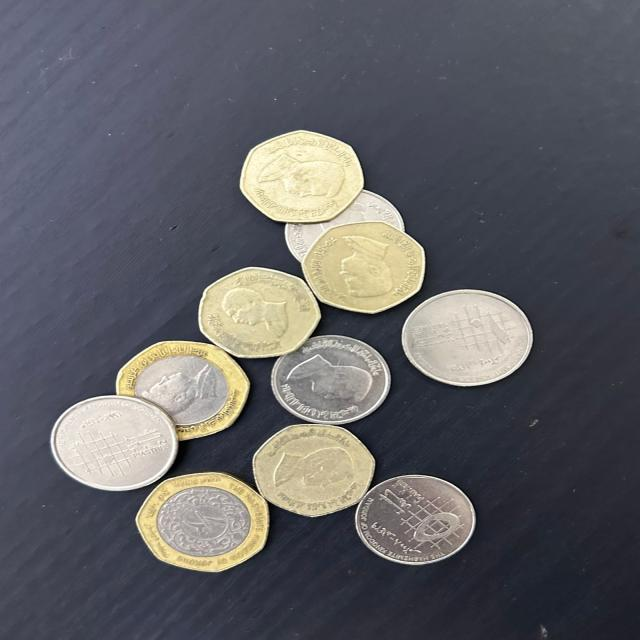10-coins: (399, 288, 532, 386), (51, 395, 178, 492)
25-coins: (251, 423, 377, 519), (237, 129, 367, 222), (300, 221, 427, 314), (196, 264, 321, 358)
5-coins: (352, 474, 478, 565), (267, 334, 389, 424), (284, 190, 408, 263)
50-coins: (115, 339, 250, 441), (135, 471, 268, 572)
